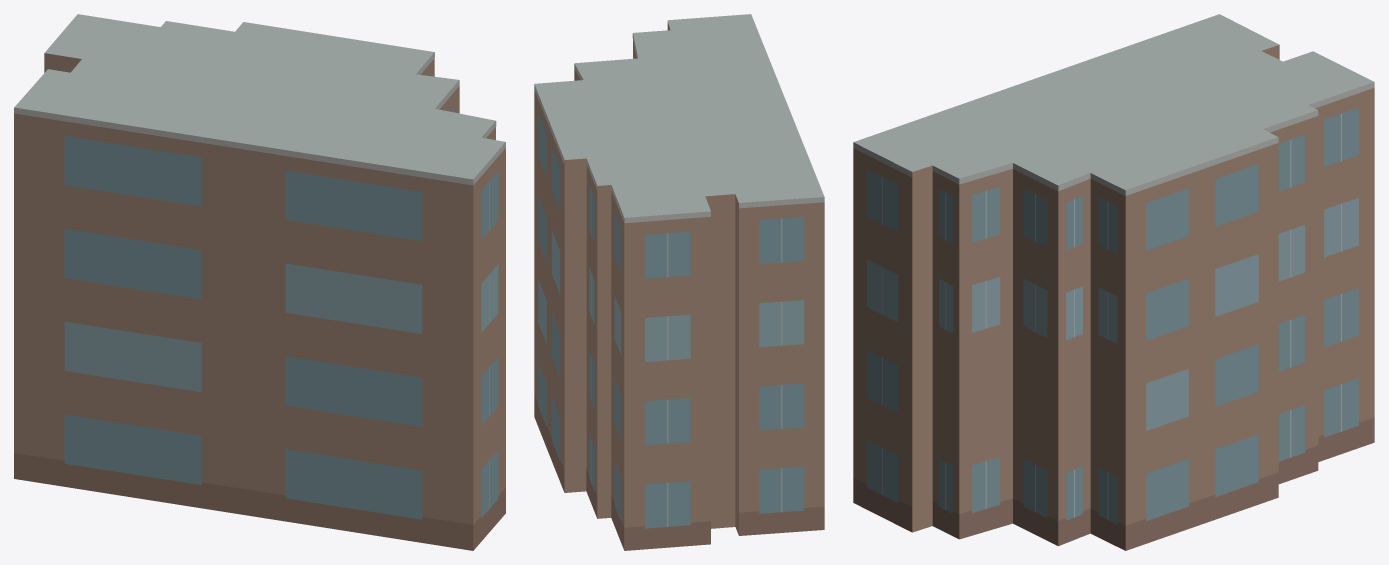
File: survey-upis-32973708.glb
The picture shows the model from 3 angles, left to right: view 1: azimuth 30°, elevation 25°; view 2: azimuth 150°, elevation 25°; view 3: azimuth 270°, elevation 25°; orthographic projection. The views are drawn at different scales.
Parts seen in each view (by area): view 1: survey-upis-32973708.tmp; view 2: survey-upis-32973708.tmp; view 3: survey-upis-32973708.tmp.
Boxes of the visible parts, x1,y1,x2,y2 form: survey-upis-32973708.tmp: [14, 14, 505, 550]; survey-upis-32973708.tmp: [534, 14, 824, 550]; survey-upis-32973708.tmp: [853, 14, 1374, 550].
Size of the model in its own units: 16.06 by 15.3 by 20.06.
